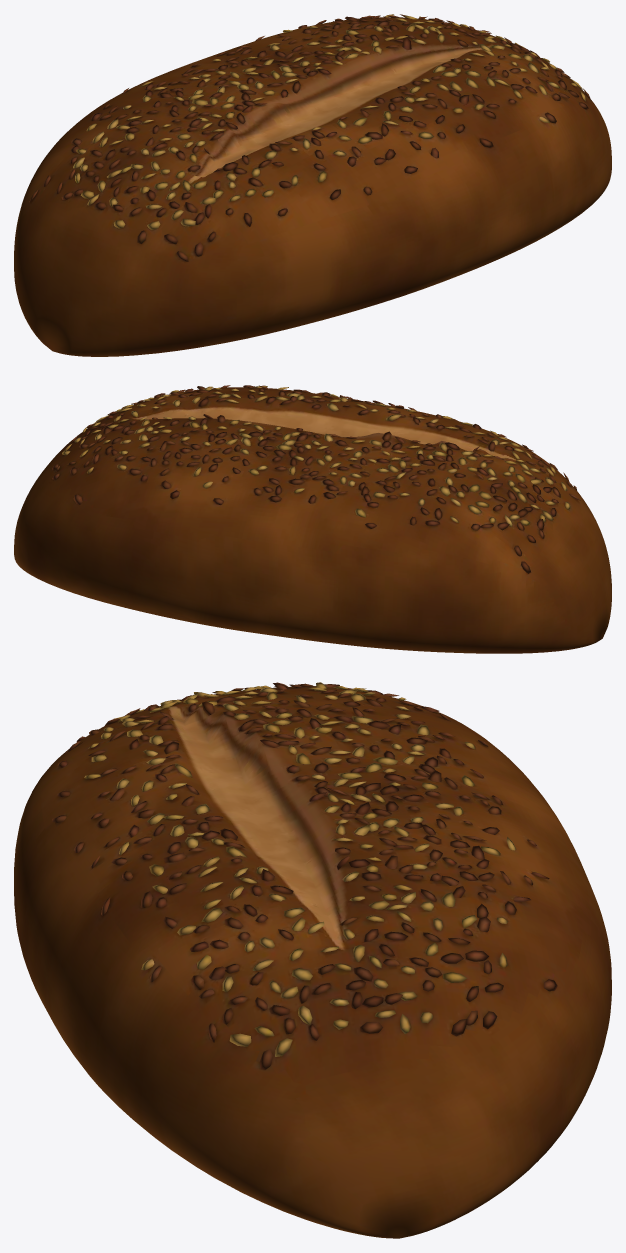
Rendered from rye--flaxseed-seed.glb.
3 views of the same model, one above another, from view 1: azimuth 30°, elevation 25°; view 2: azimuth 150°, elevation 25°; view 3: azimuth 270°, elevation 25° (orthographic). The views are drawn at different scales.
Visible parts, largest first — view 1: rye_flaxseed-seed; view 2: rye_flaxseed-seed; view 3: rye_flaxseed-seed.
Part boxes in pixels (x1,y1,x2,y2): rye_flaxseed-seed: [14, 14, 611, 356]; rye_flaxseed-seed: [14, 385, 611, 653]; rye_flaxseed-seed: [14, 682, 611, 1238].
Size of the model in its own units: 0.9927 by 0.298 by 0.6285.
1 material, 1 textured.
